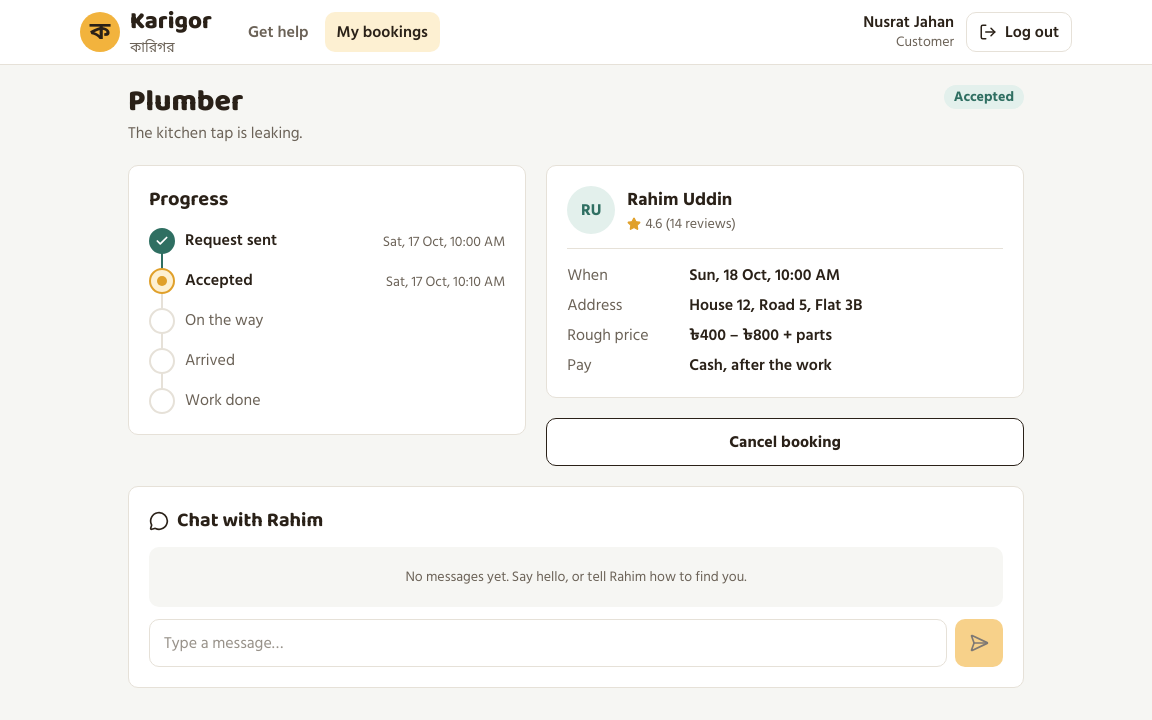
it: Chat and live updates › shows why a message was not sent
(page scrolled)
Type "Hello" into the field named "Message to Rahim". click: (548, 643)
box: x1=149 y1=619 x2=947 y2=667
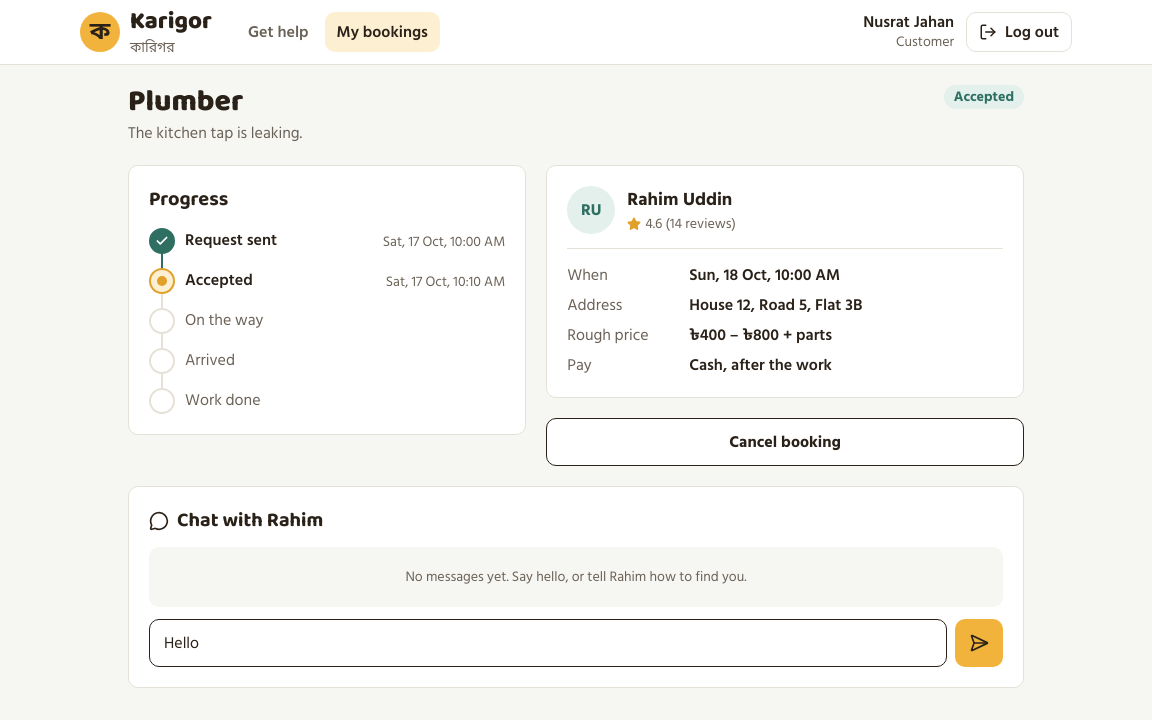
Click the button named "Send". click: (979, 643)
box: x1=955 y1=619 x2=1003 y2=667
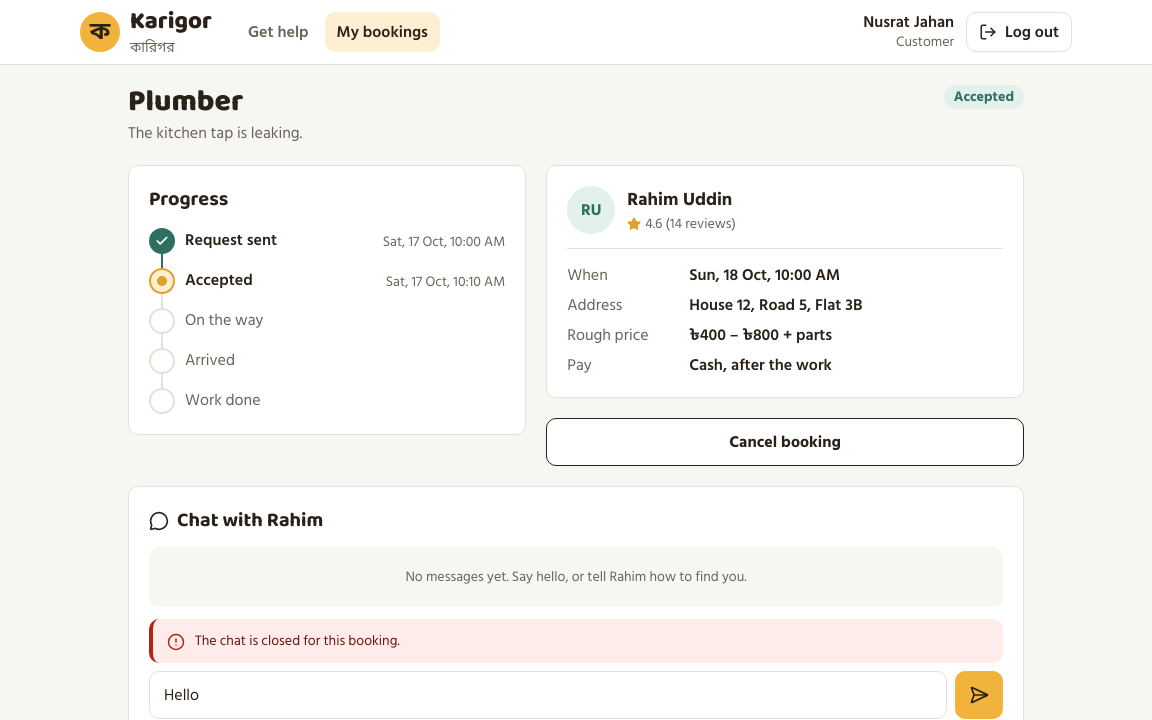
Expected: the text "The chat is closed for this booking." is shown, x1=195 y1=631 x2=400 y2=651
